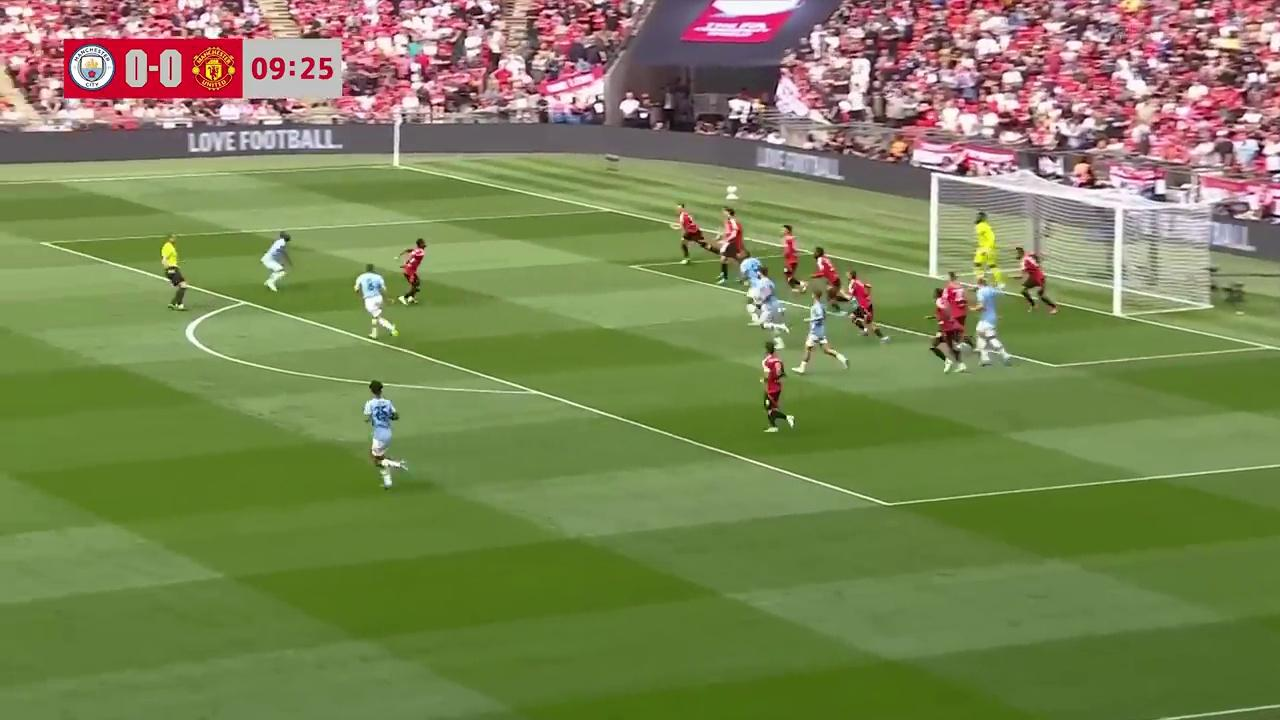player: (362, 380, 410, 489), (796, 291, 849, 374), (928, 275, 971, 373), (971, 281, 1012, 367), (744, 266, 790, 339), (353, 264, 396, 341), (759, 343, 795, 432), (844, 271, 888, 342), (810, 247, 850, 319), (738, 256, 774, 331), (1018, 247, 1057, 315), (1018, 246, 1057, 314), (715, 206, 747, 286), (672, 203, 712, 265), (971, 213, 1000, 285), (260, 233, 293, 293), (397, 238, 425, 304), (779, 224, 801, 295)
referee: (161, 234, 187, 310)
